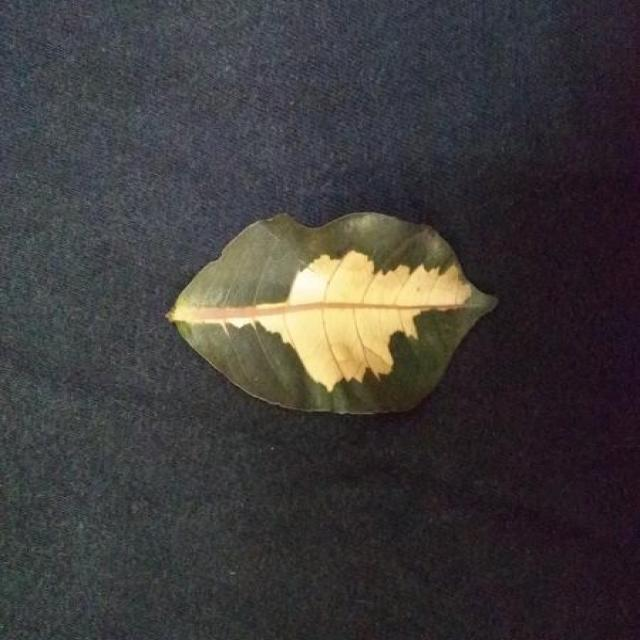caricature: (168, 212, 497, 413)
